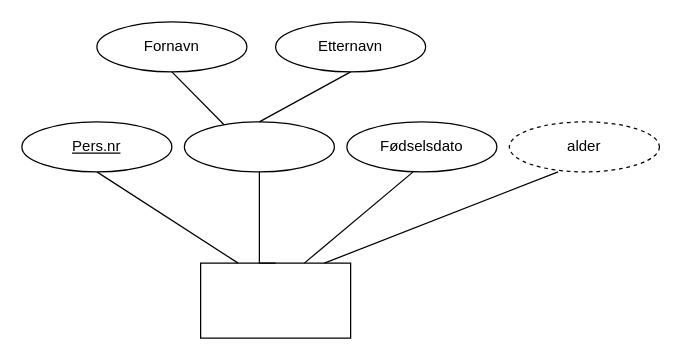
This 681x360 diagram has some shape labels left out. The centre of each missing label's shape, as x and y in pixels:
"MENNESKE" goes at [275,300].
"Navn" goes at [258,146].
